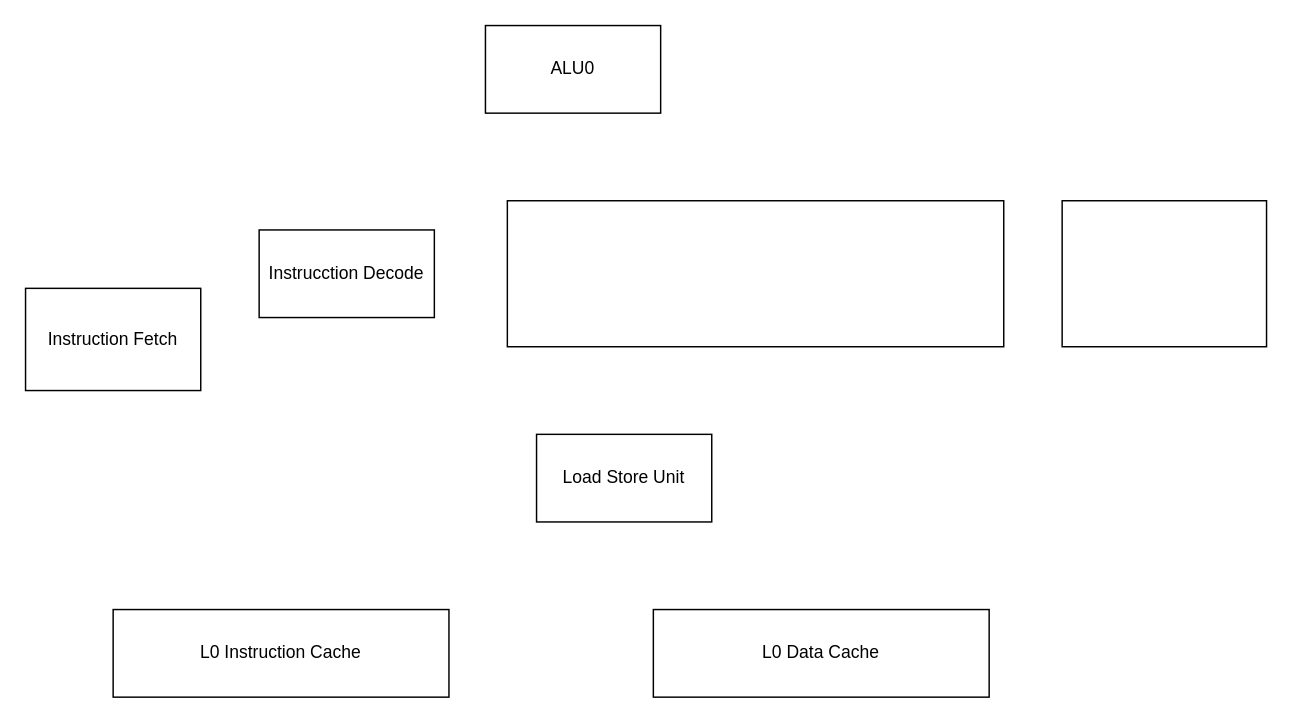
The diagram is 1292 pixels wide and 723 high, and some of its shapes have lost their labels. Each missing label, with the box of its shape:
Arithmetic Registers: (506, 199, 1004, 347)
Far Registers: (1061, 199, 1267, 347)
